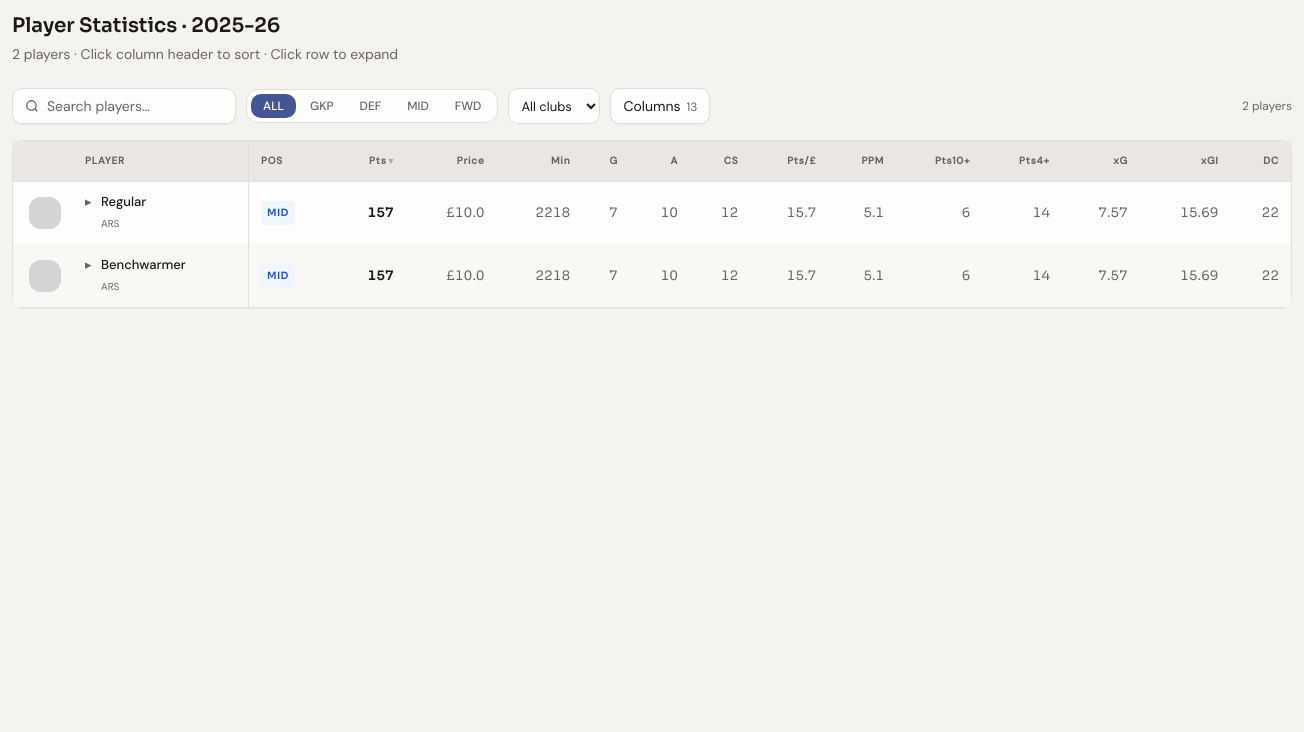
Test: availability decides what renders › renders the hit columns once selected, with the placeholder for no starts
Click the button "Columns13".
click(660, 106)  # box [610, 88, 710, 124]
(page scrolled)
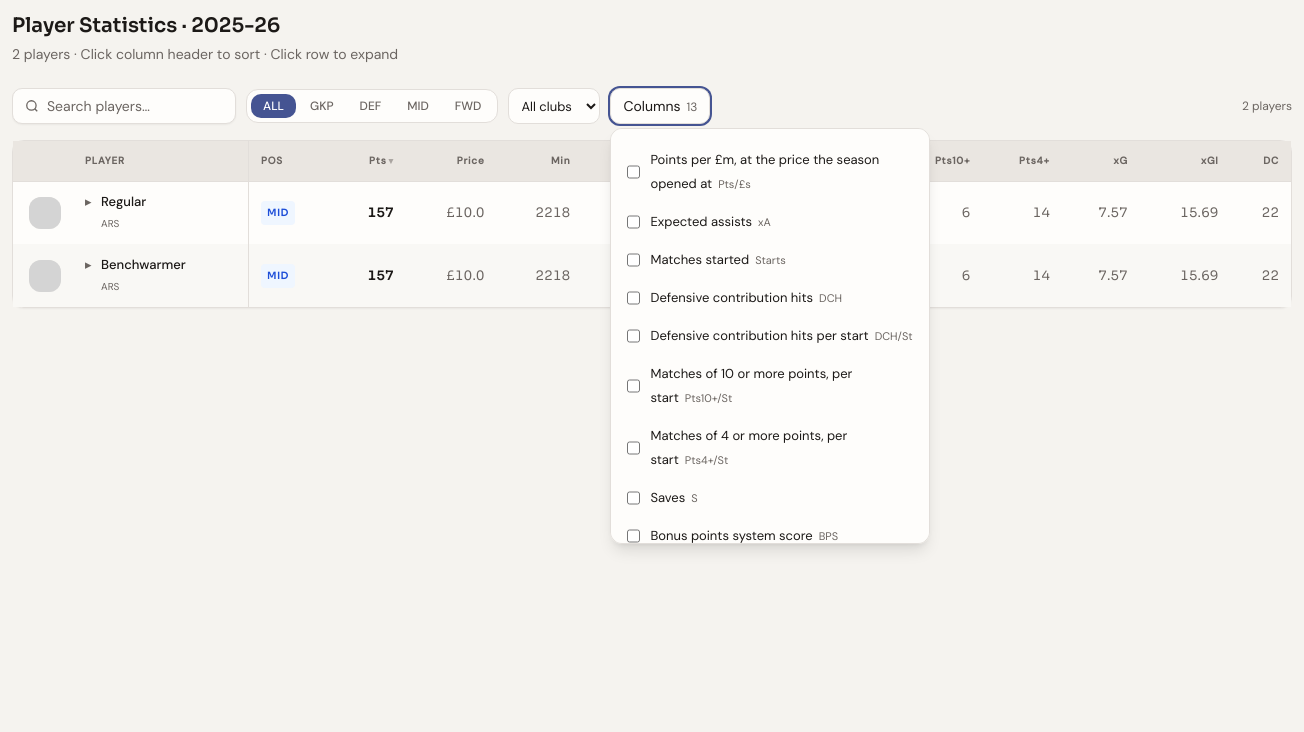
Click the checkbox labelled "Defensive contribution hits per start".
click(634, 336)  # box [628, 325, 640, 347]
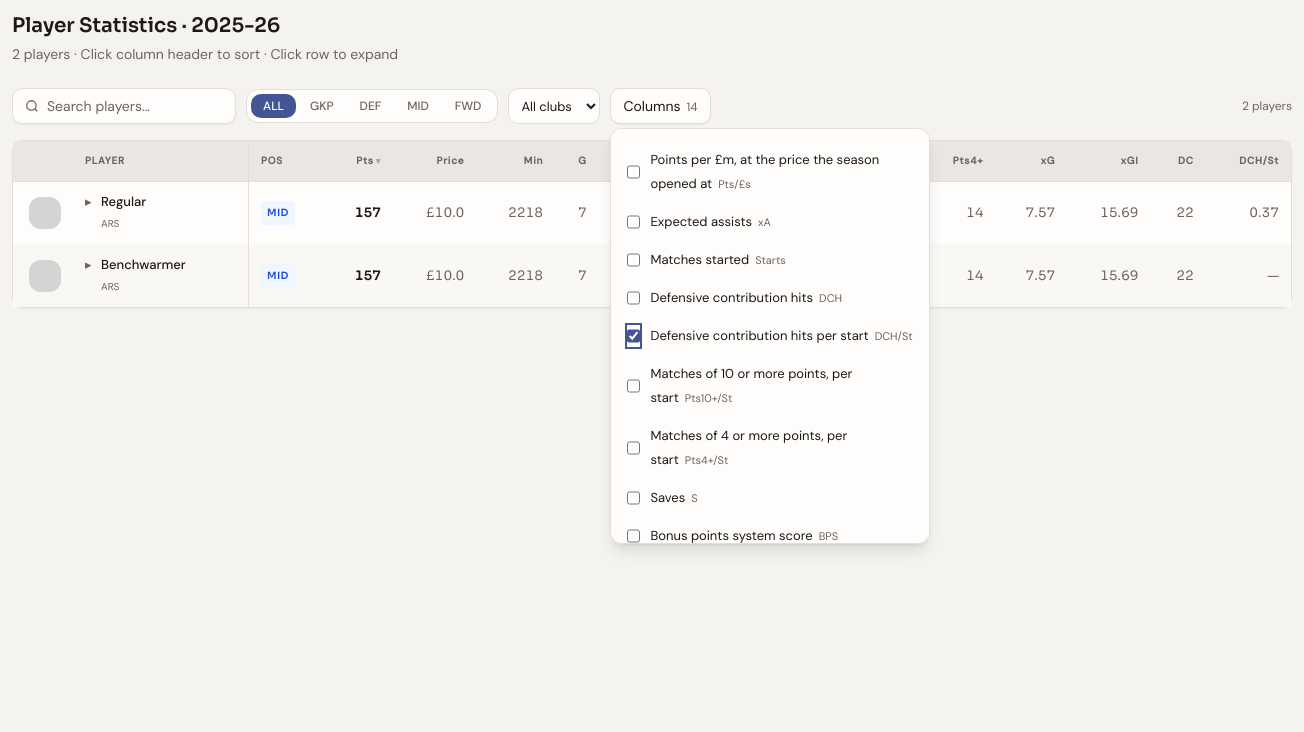
Expected: the text "0.37" is shown, [1206, 181, 1291, 244]
